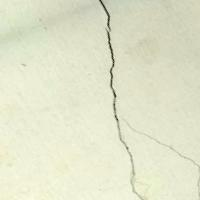crack: (93, 0, 150, 199)
